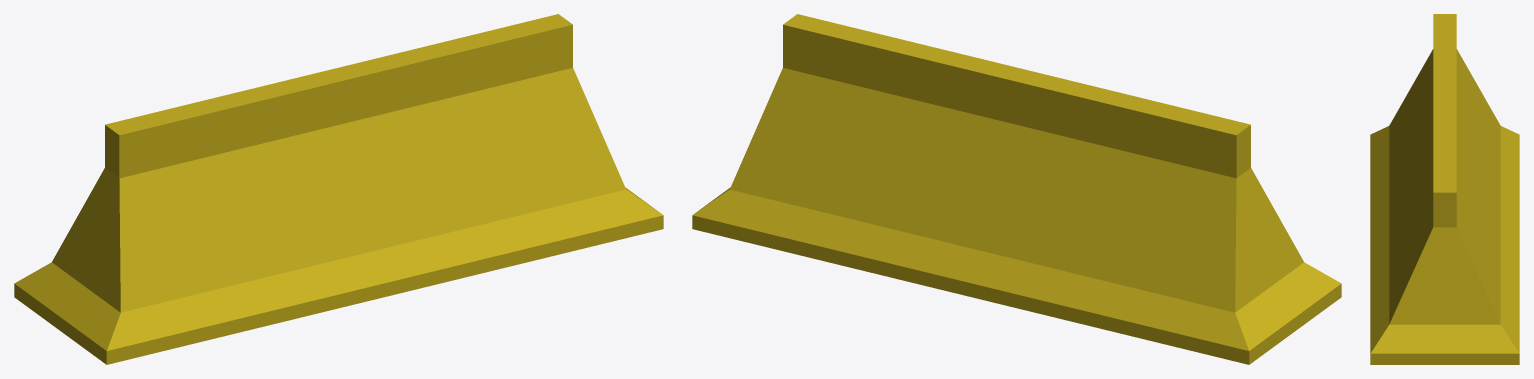
The model's file is fishka.fbx.
3 renders of one model, left to right at view 1: azimuth 30°, elevation 25°; view 2: azimuth 150°, elevation 25°; view 3: azimuth 270°, elevation 25°, orthographic. The views are drawn at different scales.
Parts seen in each view (by area): view 1: Cube; view 2: Cube; view 3: Cube.
Part boxes in pixels (<box>): Cube: <box>14,14,663,364</box>; Cube: <box>692,14,1341,364</box>; Cube: <box>1370,14,1519,364</box>.
Size of the model in its own units: 127 by 41.01 by 36.44.
